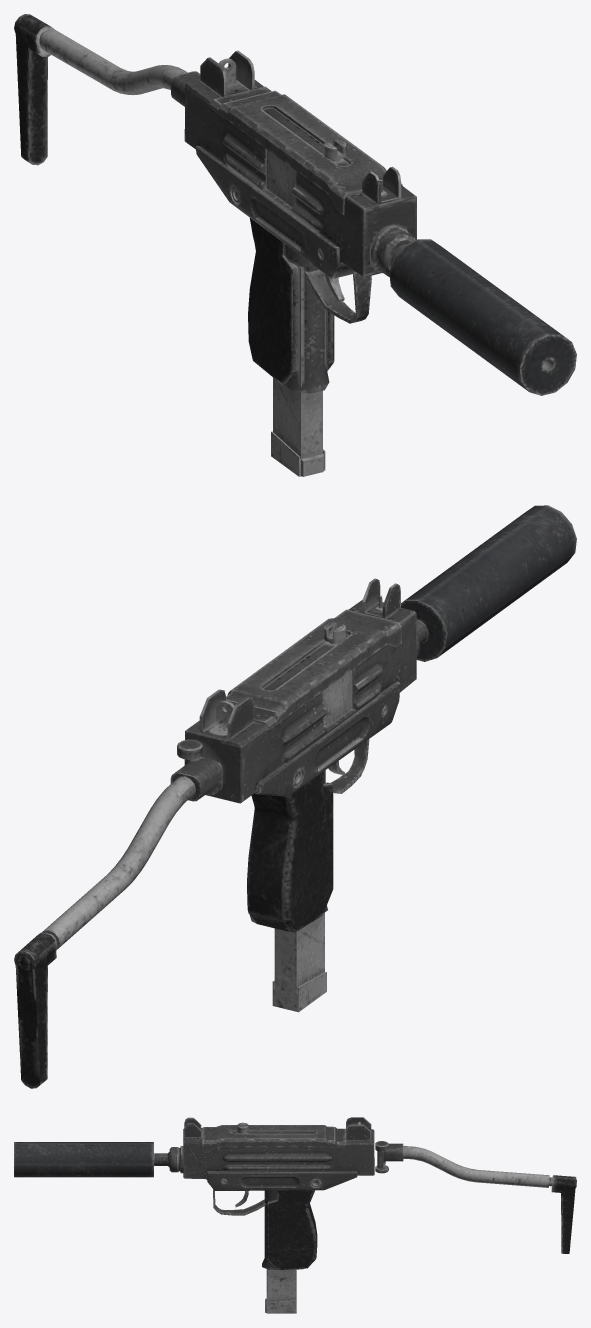
The model's file is uzi.glb.
3 renders of one model, top to bottom at view 1: azimuth 30°, elevation 25°; view 2: azimuth 150°, elevation 25°; view 3: azimuth 270°, elevation 25°, orthographic. The views are drawn at different scales.
Parts seen in each view (by area): view 1: Cylinder.004, Cube, Cube.003, Vert, Cube.002, Cube.012, Cube.004, Cube.001, Plane, Cube.005, Cube.013, Cube.010 (+2 smaller); view 2: Cylinder.004, Cube.002, Cube, Vert, Cube.003, Cube.004, Cube.012, Cube.011, Cube.013, Cube.010, Plane, Cube.007; view 3: Cube, Cylinder.004, Cube.002, Vert, Cube.003, Cube.004, Cube.012, Cube.005, Cube.001, Cube.006, Plane, Cube.011 (+2 smaller).
Boxes of the visible parts, box(x1,y1,x2,y2) form: Cylinder.004: box(389, 239, 576, 395); Cube: box(184, 79, 416, 277); Cube.003: box(209, 86, 402, 214); Vert: box(14, 14, 187, 165); Cube.002: box(248, 218, 334, 384); Cube.012: box(271, 267, 325, 476); Cube.004: box(195, 145, 355, 278); Cube.001: box(284, 244, 329, 393); Plane: box(304, 270, 371, 323); Cube.005: box(371, 225, 415, 276); Cube.013: box(266, 149, 296, 207); Cube.010: box(362, 166, 401, 204); Cylinder.004: box(401, 505, 576, 661); Cube.002: box(247, 771, 333, 932); Cube: box(184, 599, 416, 803); Vert: box(14, 776, 195, 1088); Cube.003: box(226, 609, 401, 730); Cube.004: box(254, 682, 400, 796); Cube.012: box(272, 912, 326, 1012); Cube.011: box(170, 757, 222, 801); Cube.013: box(323, 670, 352, 727); Cube.010: box(362, 578, 400, 618); Plane: box(330, 739, 369, 793); Cube.007: box(227, 696, 253, 738); Cube: box(183, 1128, 374, 1186); Cylinder.004: box(14, 1142, 153, 1177); Cube.002: box(267, 1190, 317, 1269); Vert: box(403, 1146, 576, 1253); Cube.003: box(202, 1125, 345, 1152); Cube.004: box(207, 1171, 357, 1190); Cube.012: box(265, 1269, 296, 1313); Cube.005: box(154, 1146, 183, 1173); Cube.001: box(262, 1190, 303, 1269); Cube.006: box(346, 1124, 371, 1140); Plane: box(213, 1189, 265, 1215); Cube.011: box(383, 1143, 403, 1164).
Bounding box in the file's own units: 0.4553 × 2.29 × 6.15.
1 material, 1 textured.
